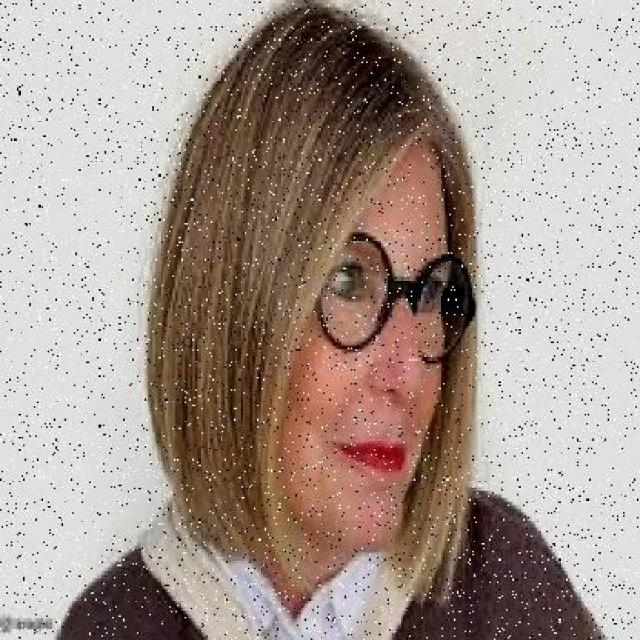glasses: (305, 222, 478, 368)
